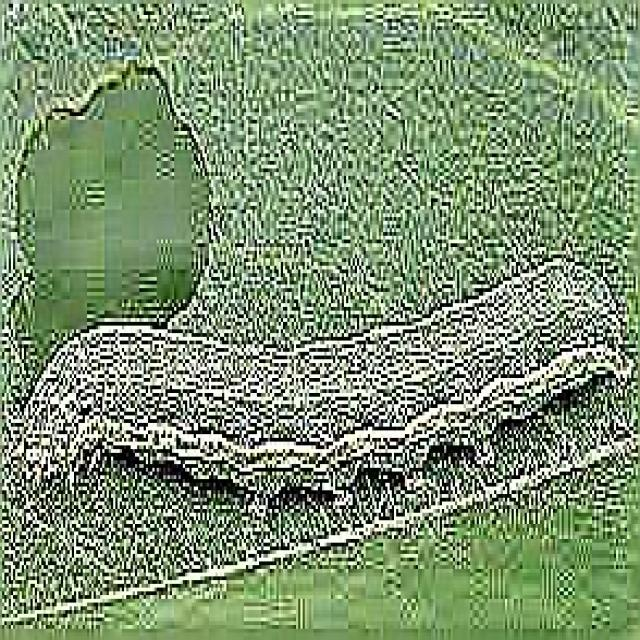Armyworm: (24, 237, 624, 462)
Armyworm_damage: (1, 77, 213, 328)
